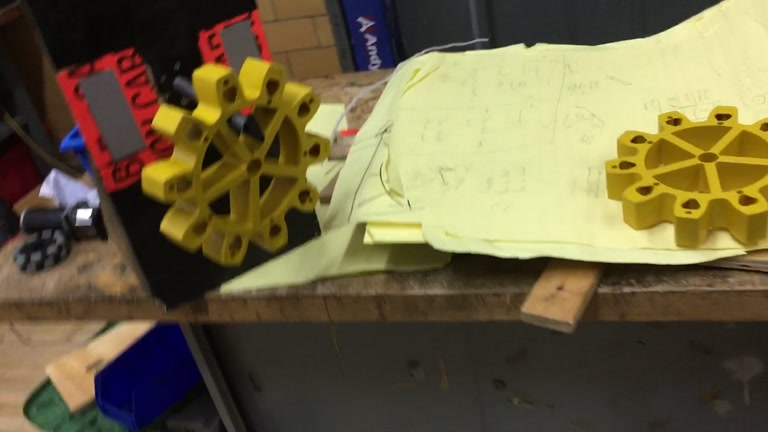gear: (140, 57, 332, 267), (604, 104, 768, 248)
